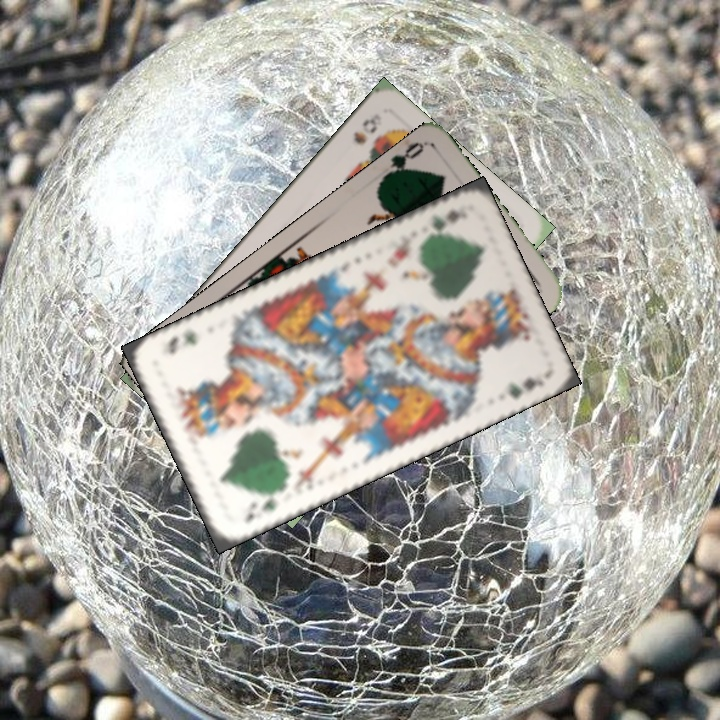GK: (419, 201, 471, 242), (240, 486, 282, 526)
GO: (377, 138, 426, 184)
S8: (349, 114, 380, 147)
